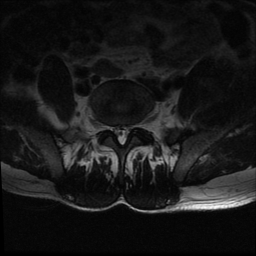CCS_normal: (119, 118, 125, 149)
LFS_severe_stenosis: (132, 118, 139, 135)
LLS_stenosis: (125, 121, 132, 140)
RFS_stenosis: (106, 120, 113, 137)
RLS_stenosis: (114, 121, 119, 140)
